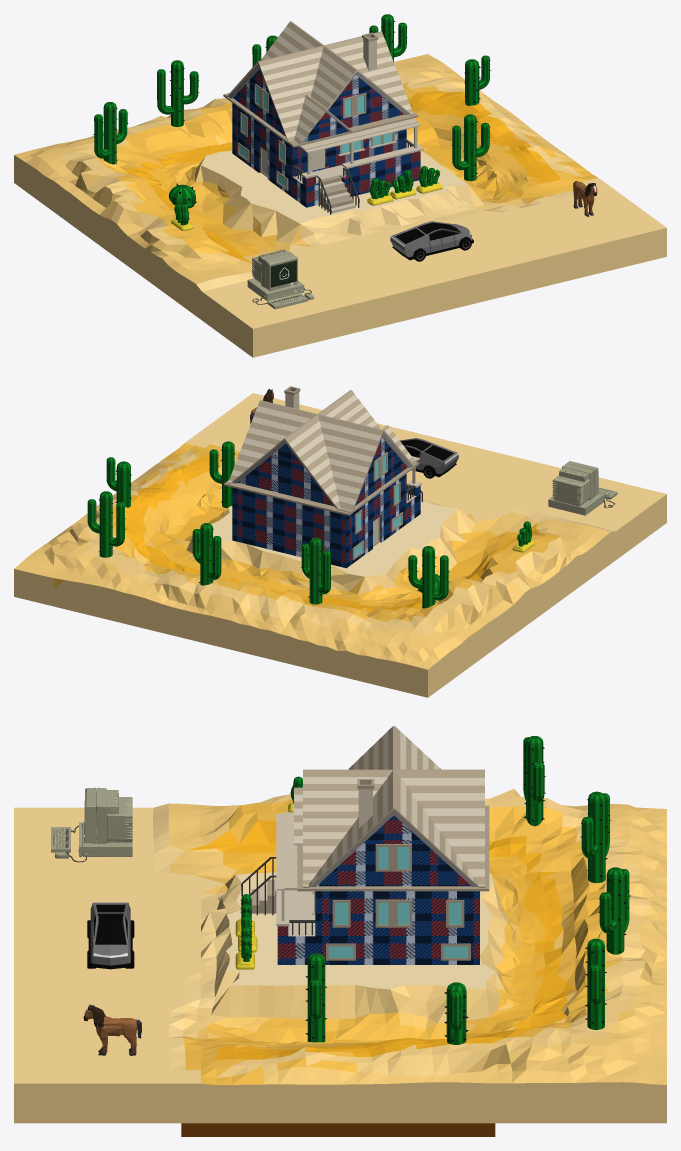
3 renders of one model, top to bottom at view 1: azimuth 30°, elevation 25°; view 2: azimuth 150°, elevation 25°; view 3: azimuth 270°, elevation 25°, orthographic. The views are drawn at different scales.
Visible parts, largest first — view 1: Cube.001, Cube.171, OBJRANDOM_RETRO_PC, VEHICLES_CYBERTRUCK, Cylinder.044, Cylinder.037, Cylinder.045, Cylinder.038, Cylinder.042, ANIMAL_CABALLO, Cylinder.039, Cylinder.041; view 2: Cube.001, Cube.171, OBJRANDOM_RETRO_PC, Cylinder.042, Cylinder.045, Cylinder.044, Cylinder.043, VEHICLES_CYBERTRUCK, Cylinder.037, Cylinder.038; view 3: Cube.001, Cube.171, UNDERGROUND_ART_PIECE_VAN_GOGH, OBJRANDOM_RETRO_PC, VEHICLES_CYBERTRUCK, Cylinder.043, Cylinder.044, Cylinder.045, Cylinder.037, Cylinder.042, ANIMAL_CABALLO, Cylinder.038 (+1 smaller).
Part boxes in pixels (left/top/right/bottom): Cube.001: left=14, top=54, right=666, bottom=357; Cube.171: left=223, top=21, right=423, bottom=214; OBJRANDOM_RETRO_PC: left=247, top=250, right=313, bottom=309; VEHICLES_CYBERTRUCK: left=390, top=221, right=473, bottom=261; Cylinder.044: left=157, top=60, right=199, bottom=126; Cylinder.037: left=451, top=114, right=490, bottom=181; Cylinder.045: left=93, top=102, right=128, bottom=164; Cylinder.038: left=464, top=55, right=490, bottom=105; Cylinder.042: left=369, top=14, right=407, bottom=61; ANIMAL_CABALLO: left=573, top=181, right=597, bottom=216; Cylinder.039: left=367, top=178, right=393, bottom=205; Cylinder.041: left=416, top=166, right=442, bottom=193; Cube.001: left=14, top=393, right=666, bottom=697; Cube.171: left=224, top=386, right=422, bottom=568; OBJRANDOM_RETRO_PC: left=548, top=461, right=617, bottom=515; Cylinder.042: left=87, top=491, right=125, bottom=557; Cylinder.045: left=408, top=546, right=449, bottom=608; Cylinder.044: left=301, top=537, right=331, bottom=604; Cylinder.043: left=192, top=523, right=221, bottom=585; VEHICLES_CYBERTRUCK: left=400, top=438, right=458, bottom=478; Cylinder.037: left=209, top=441, right=238, bottom=507; Cylinder.038: left=106, top=457, right=131, bottom=507; Cube.001: left=14, top=789, right=666, bottom=1123; Cube.171: left=241, top=726, right=489, bottom=964; UNDERGROUND_ART_PIECE_VAN_GOGH: left=181, top=1123, right=495, bottom=1136; OBJRANDOM_RETRO_PC: left=51, top=787, right=132, bottom=862; VEHICLES_CYBERTRUCK: left=87, top=902, right=134, bottom=969; Cylinder.043: left=598, top=867, right=630, bottom=954; Cylinder.044: left=580, top=791, right=610, bottom=882; Cylinder.045: left=523, top=736, right=545, bottom=826; Cylinder.037: left=305, top=953, right=327, bottom=1042; Cylinder.042: left=585, top=938, right=606, bottom=1029; ANIMAL_CABALLO: left=83, top=1004, right=141, bottom=1055; Cylinder.038: left=444, top=982, right=468, bottom=1044.
Size of the model in its own units: 4002 by 1752 by 4001.
Materials: 30 (4 with a texture image).
